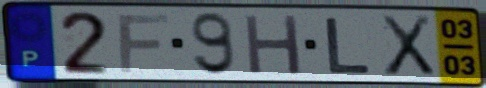2: (58, 9, 111, 77)
9: (188, 10, 238, 79)
F: (115, 12, 172, 75)
H: (242, 12, 305, 77)
L: (324, 15, 374, 75)
X: (377, 13, 438, 79)
